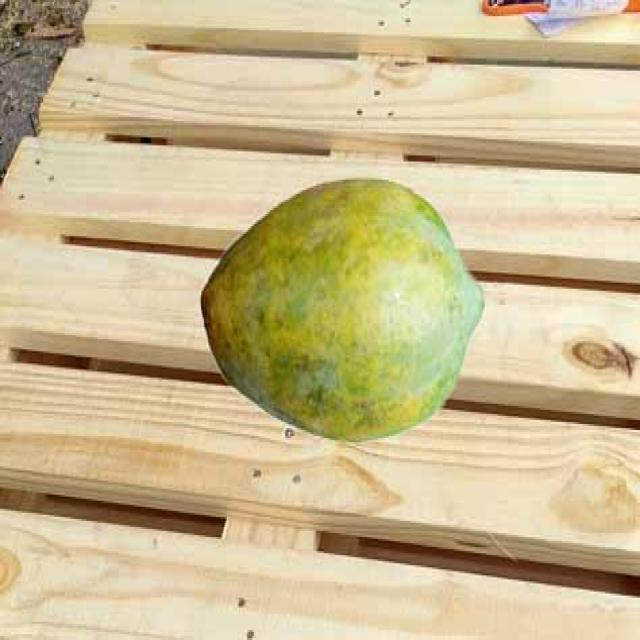Pepaya rippen: (204, 174, 478, 448)
